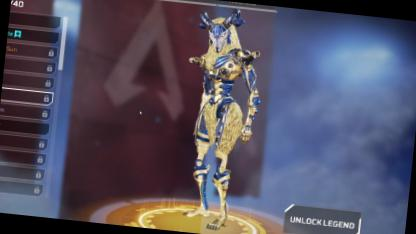Target: (177, 5, 268, 202)
